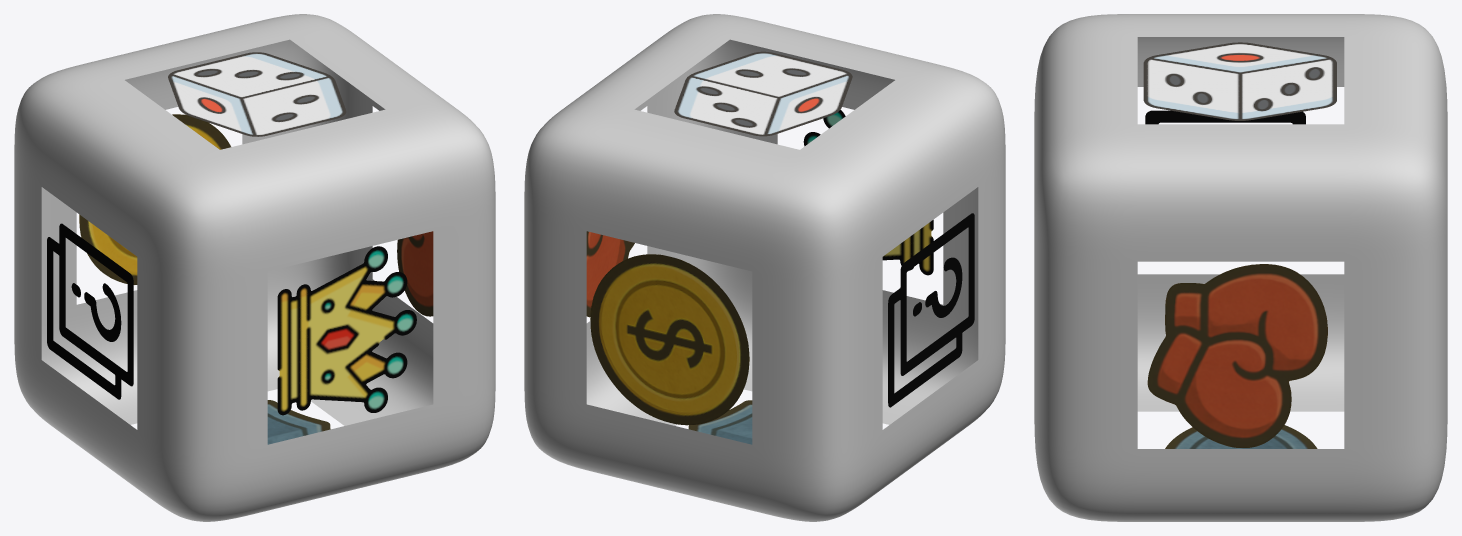
File: Legacy Strike Cube 2.fbx
3 views of the same model, side by side, from view 1: azimuth 30°, elevation 25°; view 2: azimuth 150°, elevation 25°; view 3: azimuth 270°, elevation 25° (orthographic). The views are drawn at different scales.
Parts seen in each view (by area): view 1: Cube; view 2: Cube; view 3: Cube.
Boxes of the visible parts, bbox=[...] form: Cube: bbox=[14, 14, 495, 521]; Cube: bbox=[524, 14, 1005, 521]; Cube: bbox=[1034, 14, 1447, 521].
Size of the model in its own units: 10000 by 10000 by 10000.
Materials: 2 (1 with a texture image).
